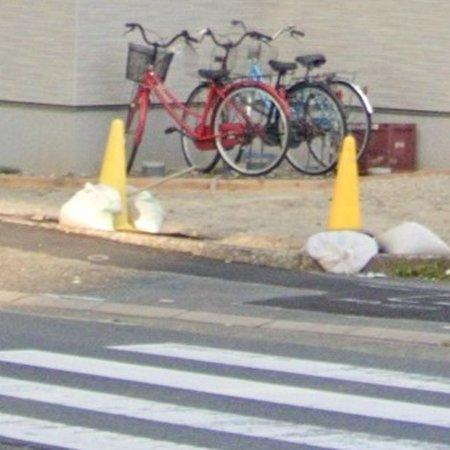crosswalks: (0, 338, 450, 450)
